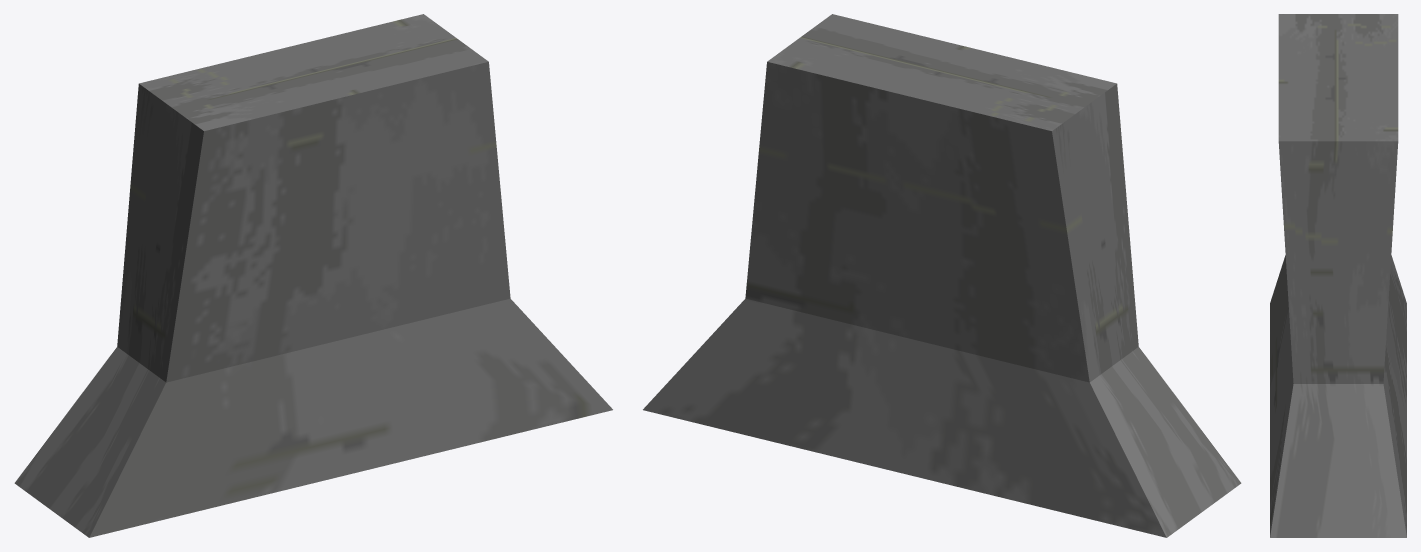
Rendered from block.glb.
The picture shows the model from 3 angles, left to right: view 1: azimuth 30°, elevation 25°; view 2: azimuth 150°, elevation 25°; view 3: azimuth 270°, elevation 25°; orthographic projection. The views are drawn at different scales.
Parts seen in each view (by area): view 1: Cube; view 2: Cube; view 3: Cube.
Boxes of the visible parts, x1,y1,x2,y2 form: Cube: (14, 14, 612, 537); Cube: (643, 14, 1241, 537); Cube: (1270, 14, 1406, 537).
Bounding box in the file's own units: 3.4 × 2.31 × 0.8378.
1 material, 1 textured.
